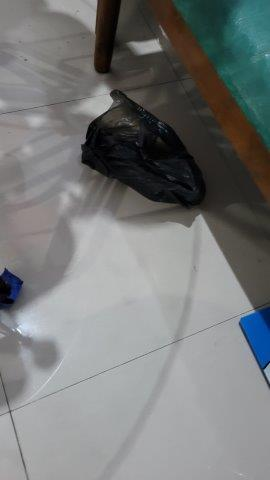plastik: (82, 88, 207, 210)
